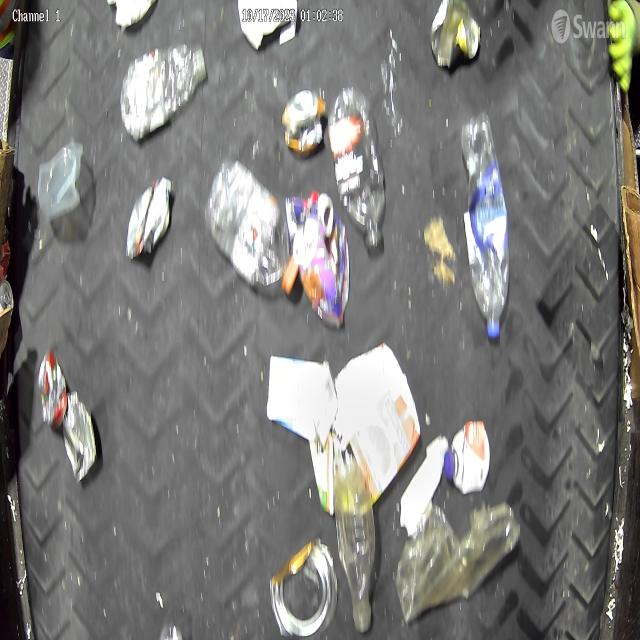can: (270, 537, 338, 640), (126, 177, 172, 261), (428, 0, 481, 69), (62, 393, 99, 483), (282, 89, 325, 159), (36, 351, 68, 429)
non_white_jug: (310, 342, 421, 516)
plastic_bottle: (461, 114, 511, 341), (205, 162, 292, 292), (328, 84, 386, 252), (120, 42, 206, 140), (333, 464, 376, 632)
